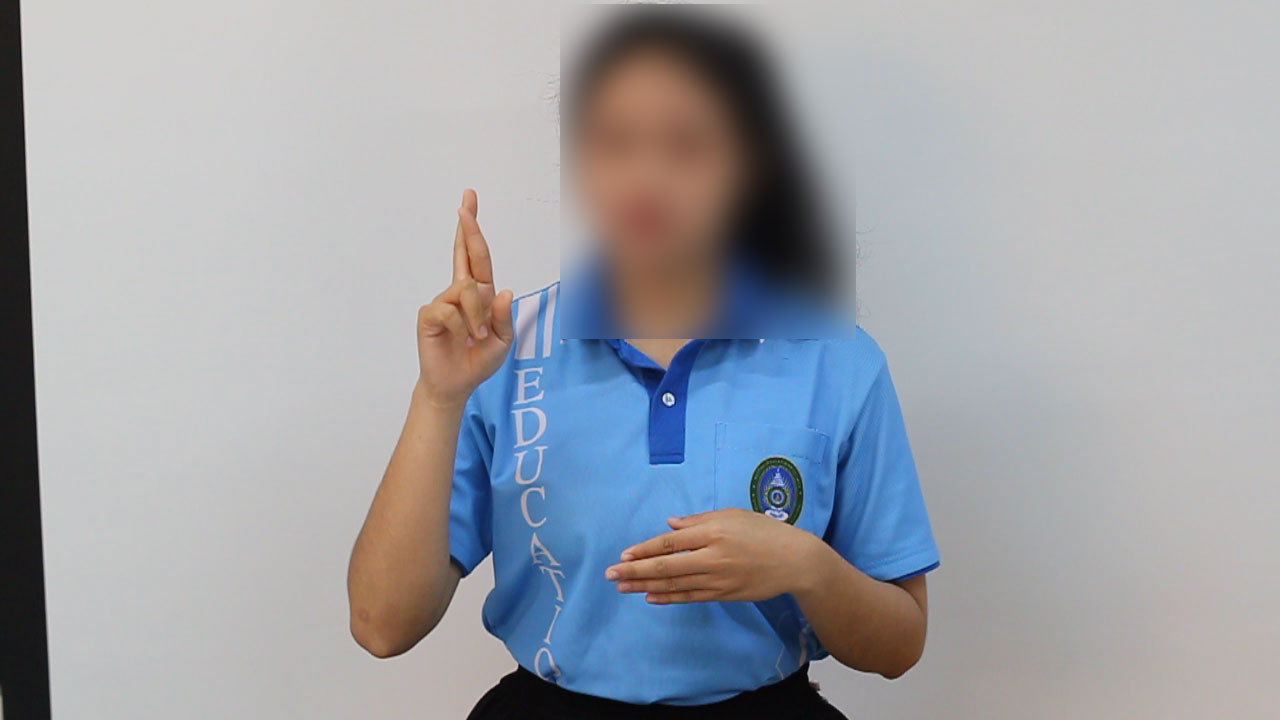rao: (401, 182, 528, 432)
